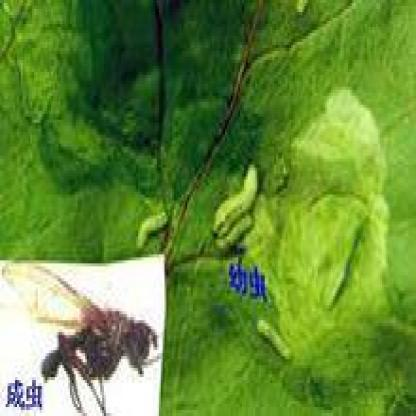whorl-maggot: (203, 159, 268, 253), (251, 308, 294, 370), (133, 204, 169, 251)
